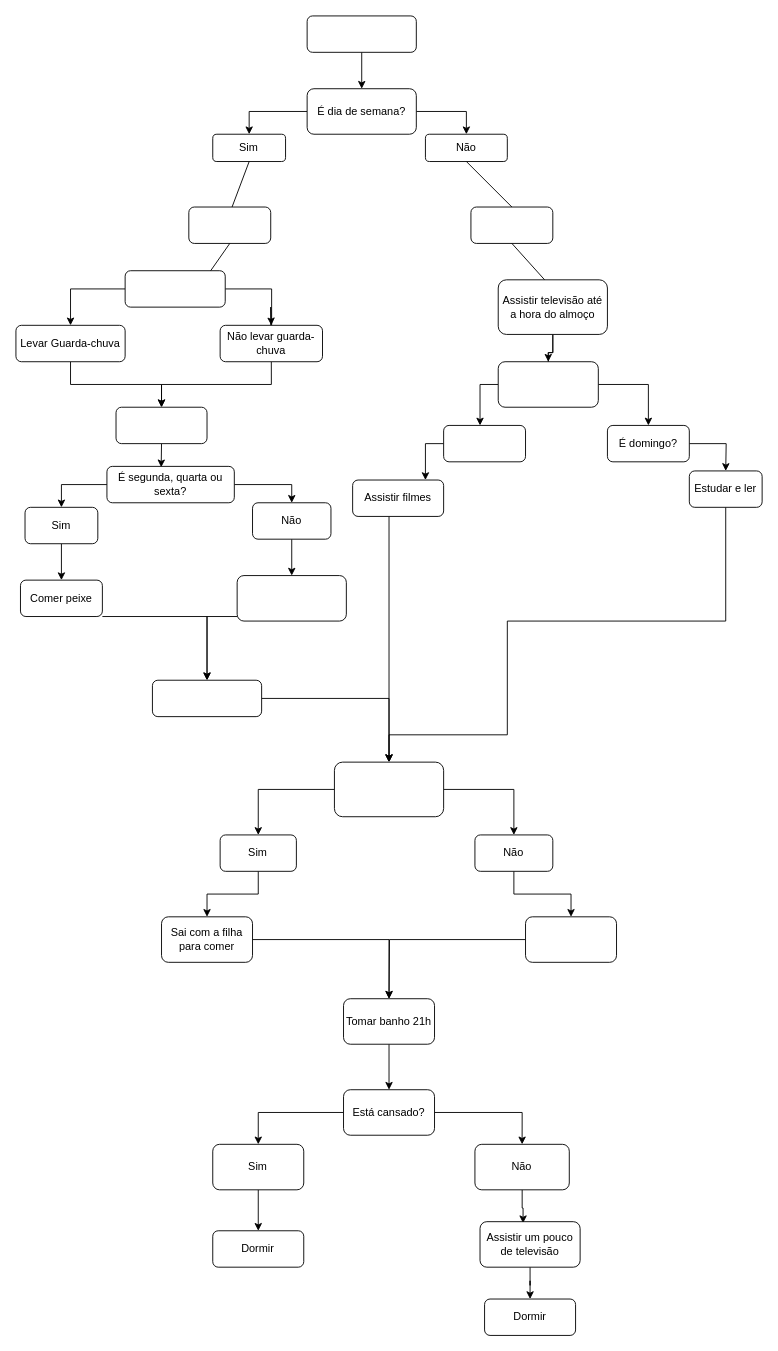
Some shapes in this 778 by 1351 pixel diagram are drawn without their labels. The centre of each missing label's shape, as x and y in pixels:
Acordar às 7h: point (361, 33)
Almoçar carne e salada: point (547, 384)
Arrumar a casa: point (511, 224)
Comer carne ou salada: point (291, 598)
Ir para o trabalho: point (161, 425)
Jantar em casa: point (571, 939)
Sua filha o convidou pra jantar?: point (389, 789)
Tomar banho: point (229, 224)
Trabalhar até às 18h: point (207, 698)
Verificar a previsão do tempo: point (174, 288)
É sábado?: point (484, 443)
